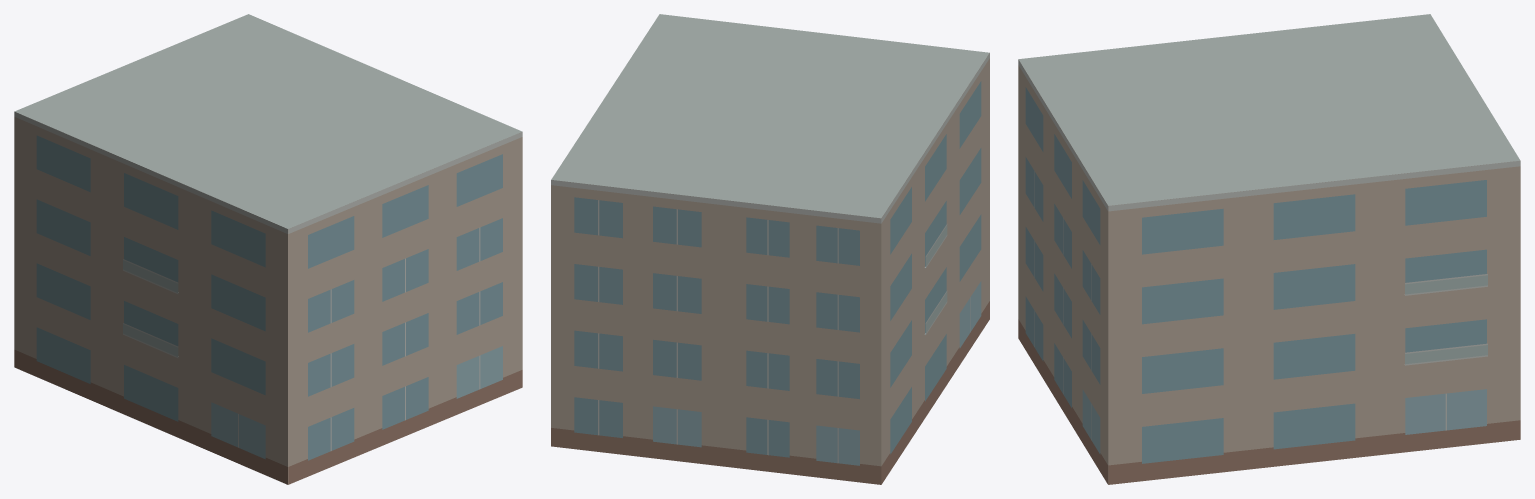
The model's file is residential-e83c4dca-3130-4650-a09b-8b518c01bf9f.glb.
3 views of the same model, side by side, from view 1: azimuth 30°, elevation 25°; view 2: azimuth 150°, elevation 25°; view 3: azimuth 270°, elevation 25° (orthographic). The views are drawn at different scales.
Visible parts, largest first — view 1: residential-e83c4dca-3130-4650-a09b-8b518c01bf9f.tmp; view 2: residential-e83c4dca-3130-4650-a09b-8b518c01bf9f.tmp; view 3: residential-e83c4dca-3130-4650-a09b-8b518c01bf9f.tmp.
Part boxes in pixels (x1,y1,x2,y2): residential-e83c4dca-3130-4650-a09b-8b518c01bf9f.tmp: (14, 14, 522, 484); residential-e83c4dca-3130-4650-a09b-8b518c01bf9f.tmp: (551, 14, 989, 484); residential-e83c4dca-3130-4650-a09b-8b518c01bf9f.tmp: (1018, 14, 1520, 484).
Size of the model in its own units: 18 by 12.2 by 19.92.
